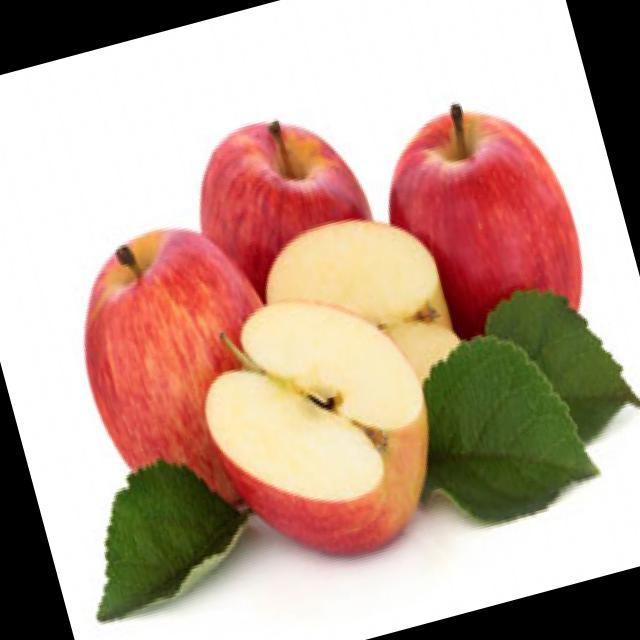apple: (45, 199, 318, 544), (358, 78, 620, 423), (163, 94, 409, 396)
